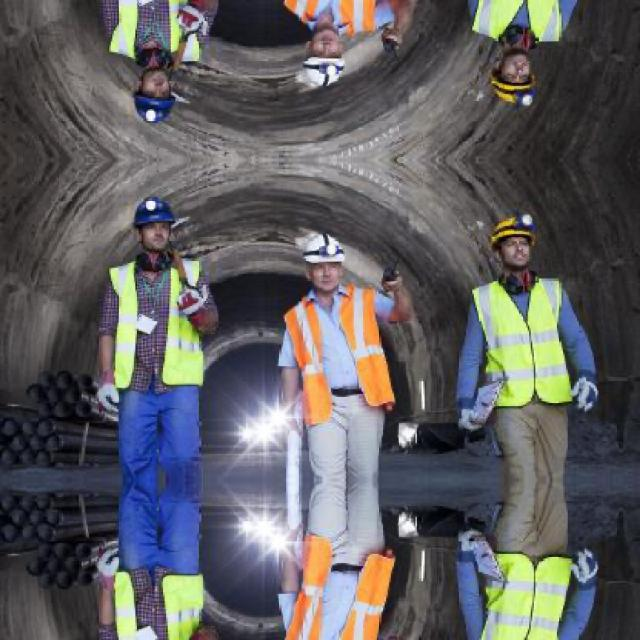con casco: (482, 195, 560, 325), (114, 195, 197, 301), (284, 224, 358, 330)
